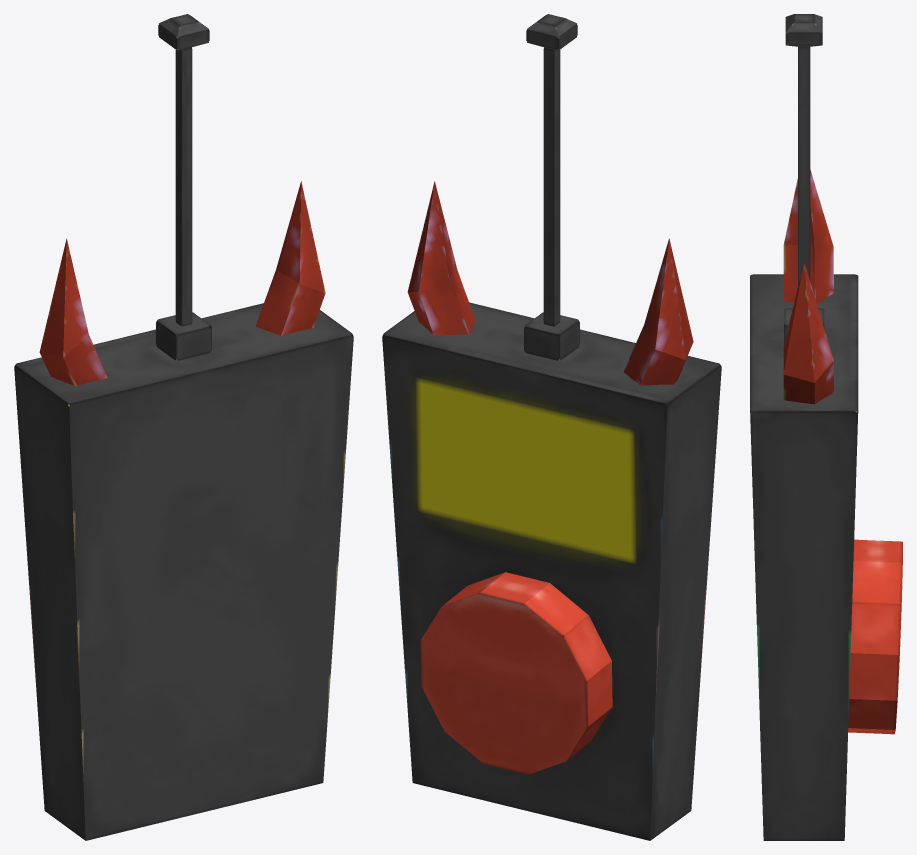
Rendered from detonator.fbx.
3 renders of one model, left to right at view 1: azimuth 30°, elevation 25°; view 2: azimuth 150°, elevation 25°; view 3: azimuth 270°, elevation 25°, orthographic.
Visible parts, largest first — view 1: Base, Antenna, Horn_Right, Horn_Left; view 2: Base, Button, Antenna, Horn_Right, Horn_Left; view 3: Base, Button, Horn_Right, Antenna, Horn_Left.
Boxes of the visible parts, <box> form: Base: <box>14,303,353,840</box>; Antenna: <box>156,14,211,360</box>; Horn_Right: <box>255,181,325,335</box>; Horn_Left: <box>39,238,107,405</box>; Base: <box>382,302,721,840</box>; Button: <box>420,572,612,774</box>; Antenna: <box>524,14,579,360</box>; Horn_Right: <box>407,181,475,335</box>; Horn_Left: <box>623,238,693,404</box>; Base: <box>750,274,858,840</box>; Button: <box>848,539,902,734</box>; Horn_Right: <box>783,261,833,404</box>; Antenna: <box>784,14,824,343</box>; Horn_Left: <box>783,170,833,303</box>.
Size of the model in its own units: 75 by 195 by 35.32.
1 material, 1 textured.
